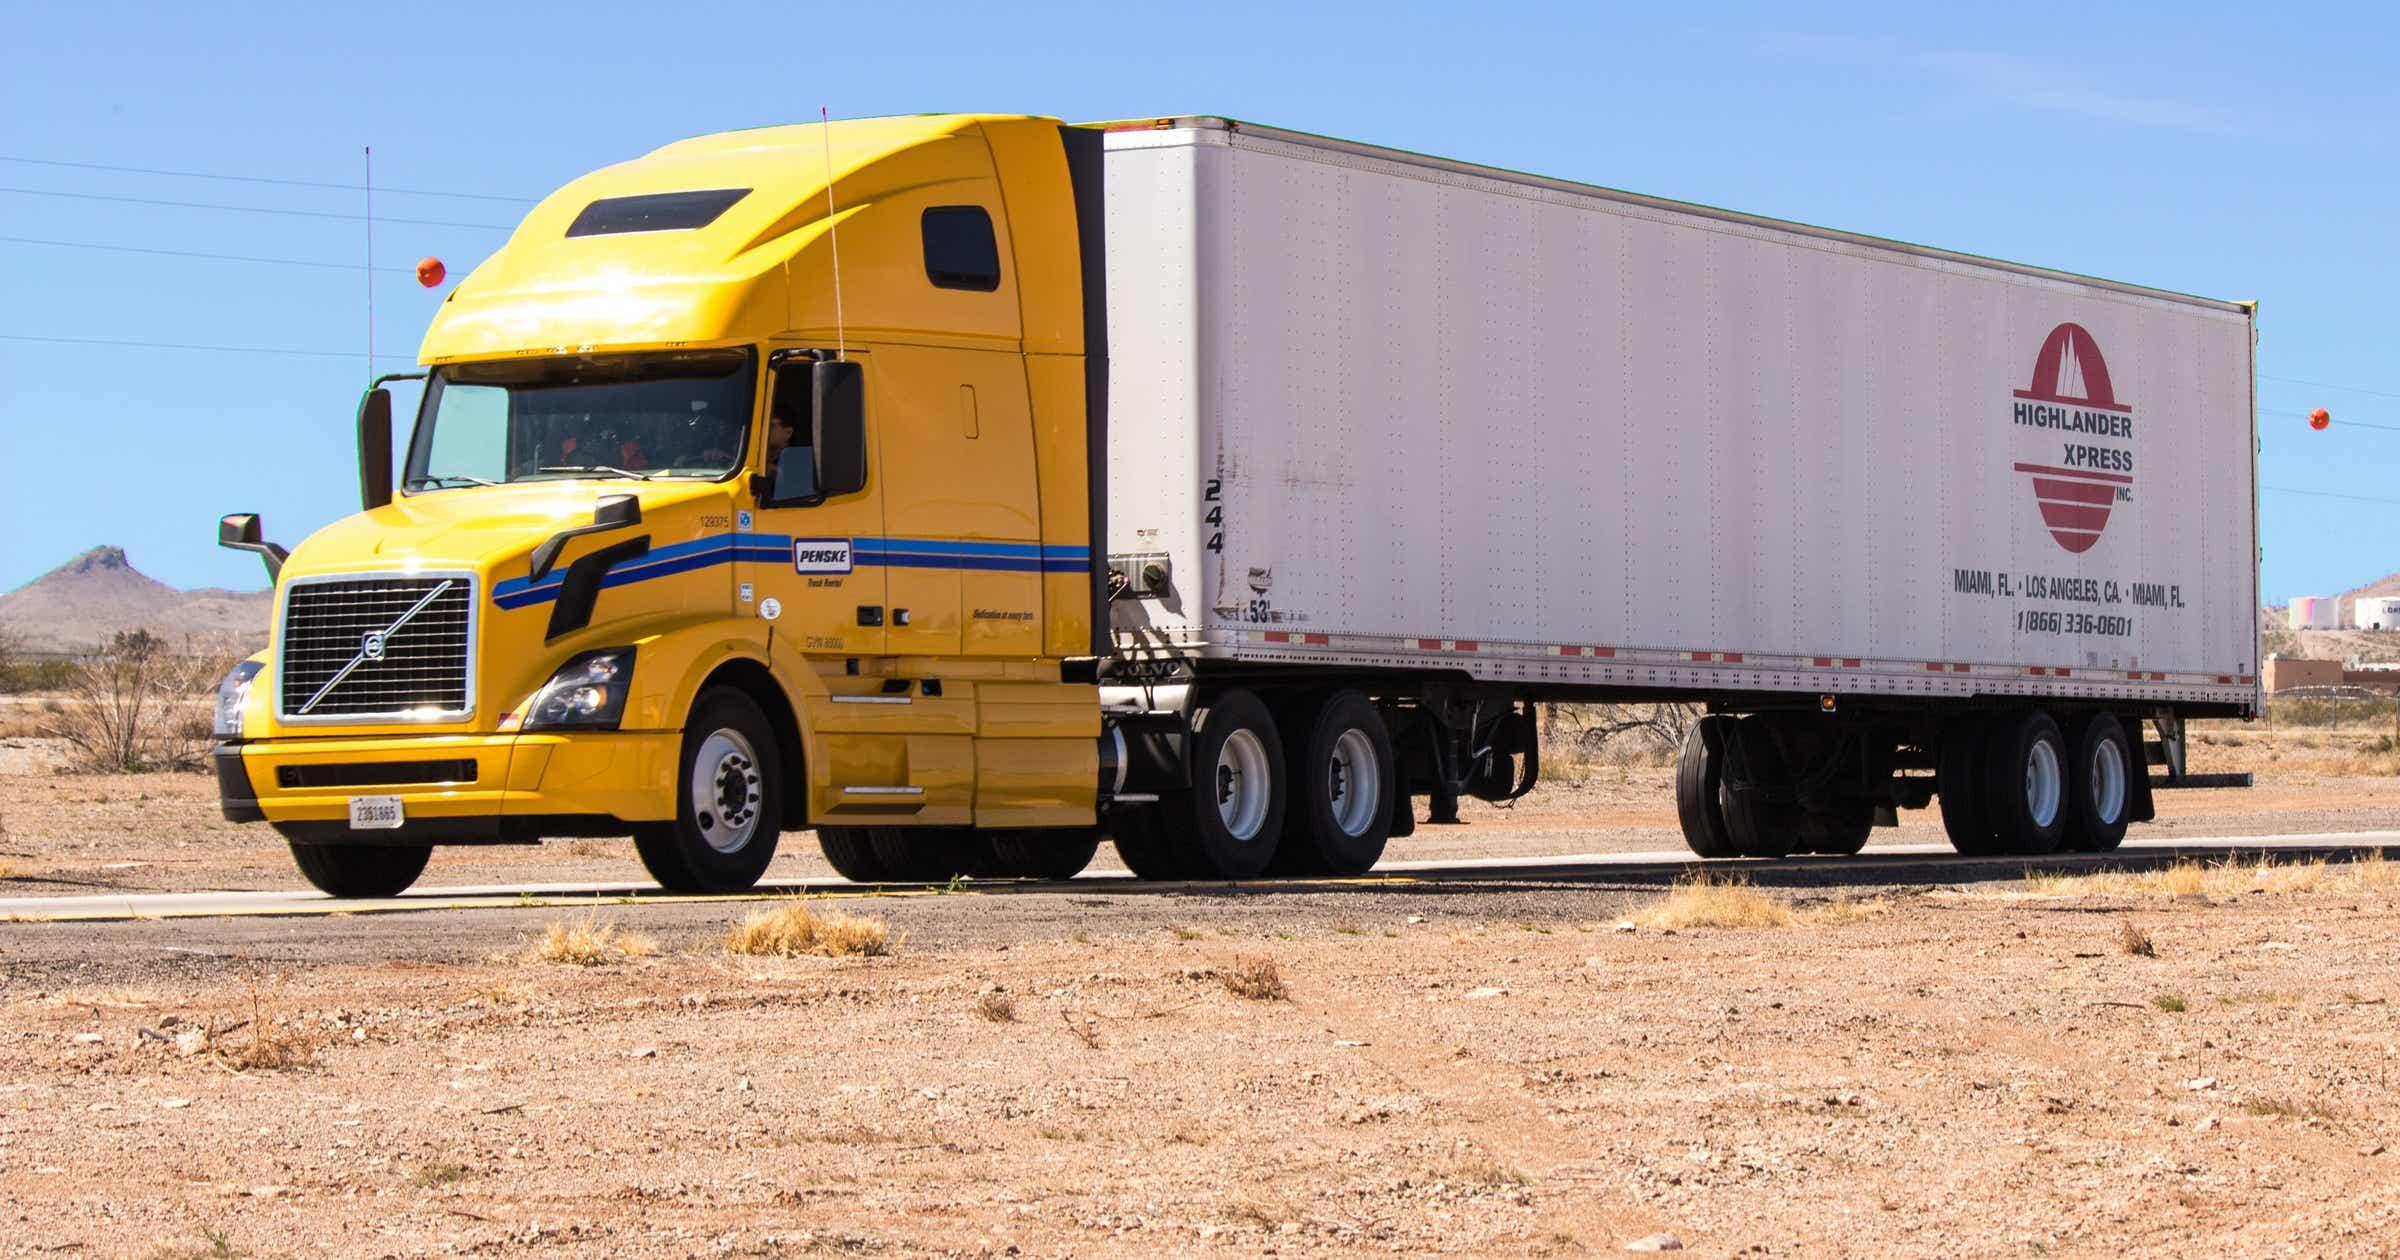truck: (210, 109, 2271, 895)
